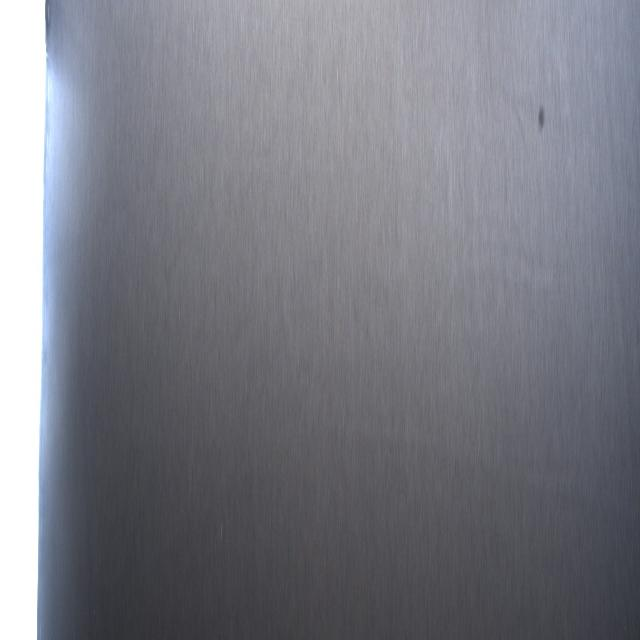crease: (354, 416, 603, 504), (600, 77, 631, 453), (502, 78, 529, 172), (487, 38, 497, 129)
